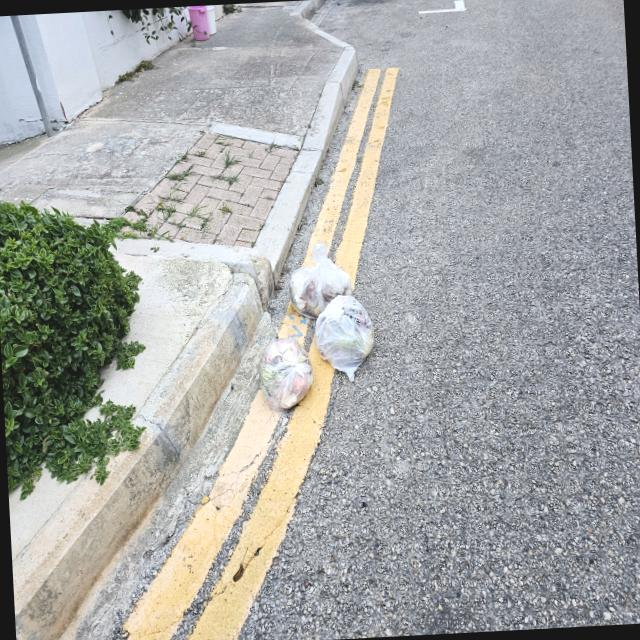white_bag: (312, 292, 378, 384), (286, 238, 358, 322), (256, 335, 316, 413)
